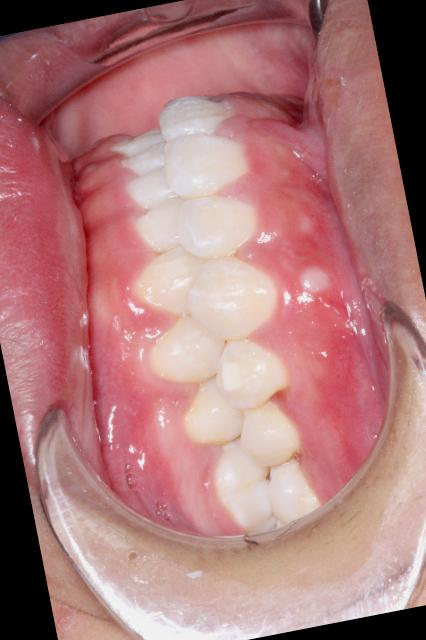canine class II 1/4: (121, 228, 298, 398)
molar class III 1/2: (197, 421, 346, 549)
